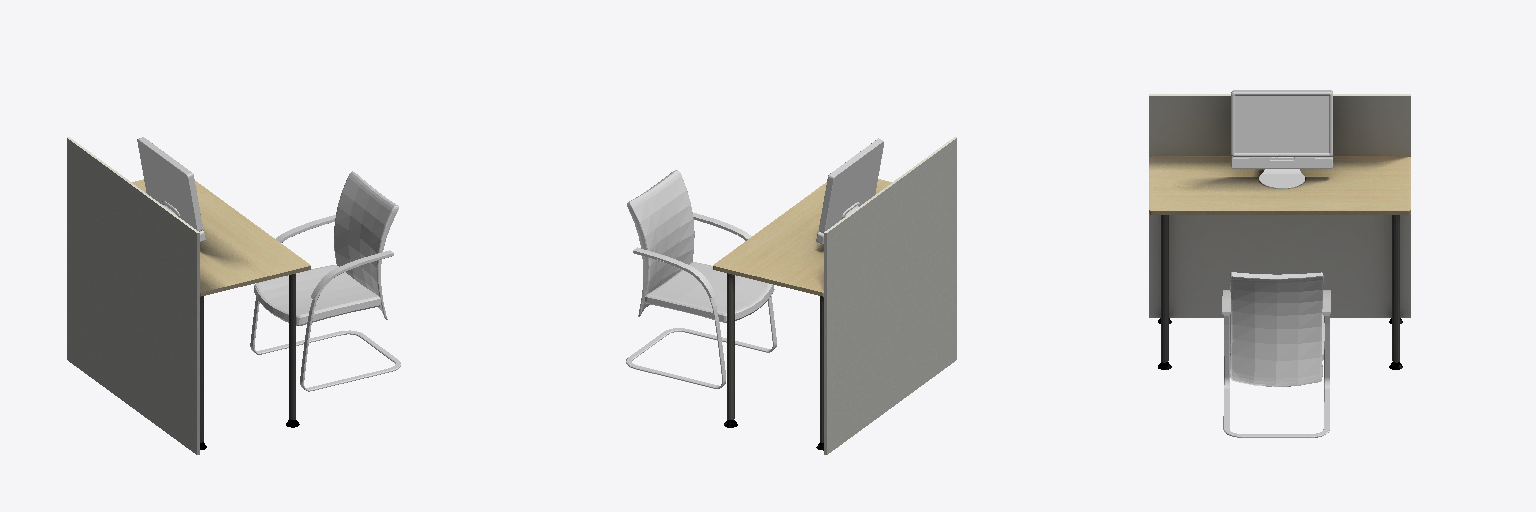
3 views of the same model, side by side, from view 1: azimuth 30°, elevation 25°; view 2: azimuth 150°, elevation 25°; view 3: azimuth 270°, elevation 25° (orthographic).
Parts seen in each view (by area): view 1: Rectangle[number redacted], Line[number redacted], Arch35_022_168; view 2: Rectangle[number redacted], Line[number redacted], Arch35_022_168; view 3: Rectangle[number redacted], Line[number redacted], Arch35_022_168.
Part boxes in pixels (x1,y1,x2,y2): Rectangle[number redacted]: (67, 137, 310, 454); Line[number redacted]: (250, 171, 400, 391); Arch35_022_168: (137, 137, 205, 242); Rectangle[number redacted]: (713, 137, 956, 454); Line[number redacted]: (626, 170, 776, 388); Arch35_022_168: (816, 138, 883, 244); Rectangle[number redacted]: (1149, 94, 1410, 369); Line[number redacted]: (1222, 272, 1330, 437); Arch35_022_168: (1231, 90, 1332, 188).
Bounding box in the file's own units: 133 × 125 × 121.
Materials: 3 (1 with a texture image).